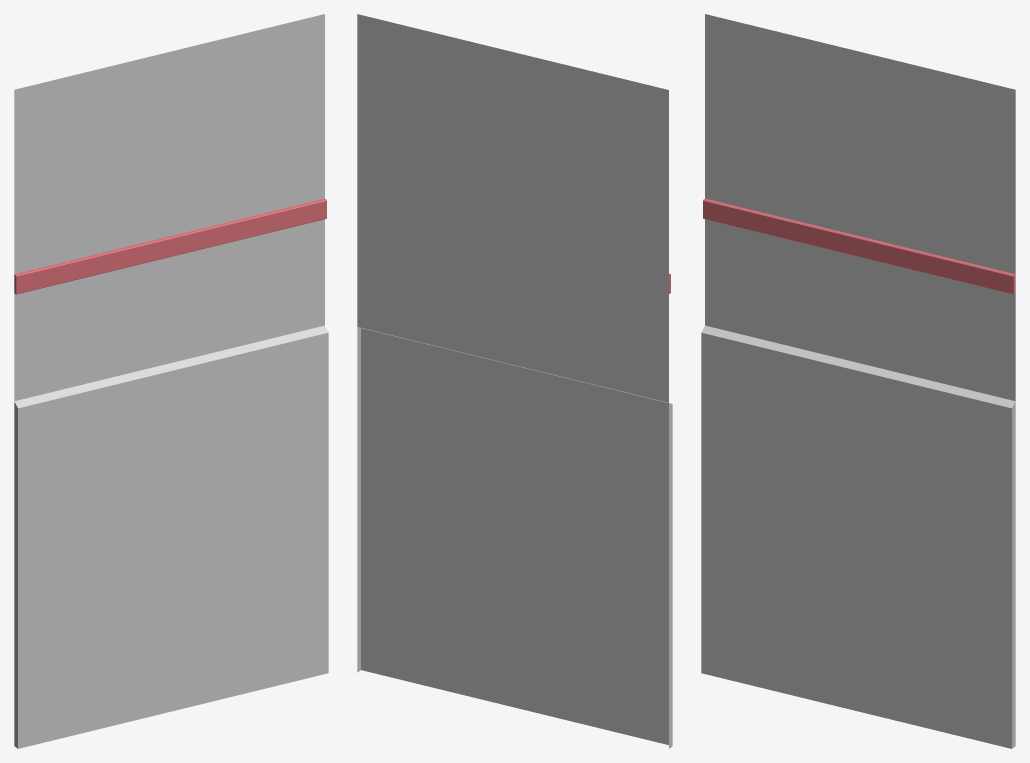
The model's file is Hallway_Wall.005.fbx.
3 renders of one model, left to right at view 1: azimuth 30°, elevation 25°; view 2: azimuth 150°, elevation 25°; view 3: azimuth 330°, elevation 25°, orthographic.
Visible parts, largest first — view 1: Hallway_Wall.005; view 2: Hallway_Wall.005; view 3: Hallway_Wall.005.
Boxes of the visible parts, x1,y1,x2,y2 form: Hallway_Wall.005: (14,14,328,748); Hallway_Wall.005: (357,14,672,748); Hallway_Wall.005: (701,14,1015,748).
Bounding box in the file's own units: 136 × 275 × 2.92.
